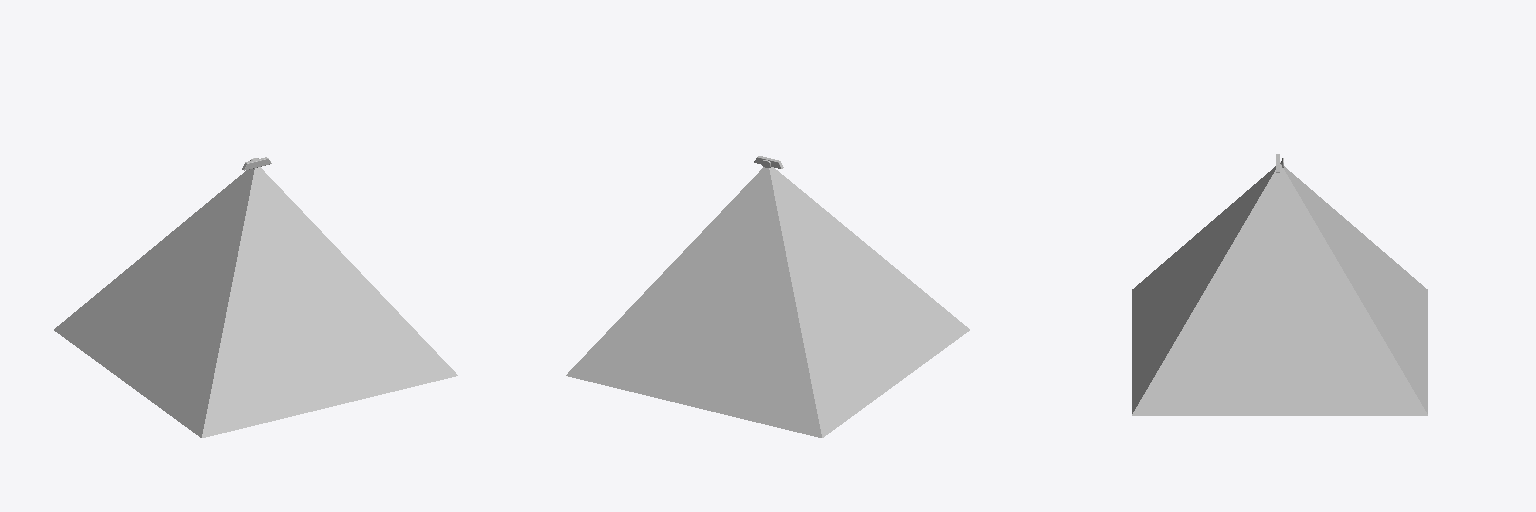
File: kinectviewport.obj
The picture shows the model from 3 angles: view 1: azimuth 30°, elevation 25°; view 2: azimuth 150°, elevation 25°; view 3: azimuth 270°, elevation 25°; orthographic projection.
Parts seen in each view (by area): view 1: pPyramid1; view 2: pPyramid1; view 3: pPyramid1.
Boxes of the visible parts, x1,y1,x2,y2 form: pPyramid1: [54, 167, 457, 437]; pPyramid1: [566, 167, 969, 437]; pPyramid1: [1132, 164, 1427, 415].
Size of the model in its own units: 2.56 by 1.85 by 2.56.